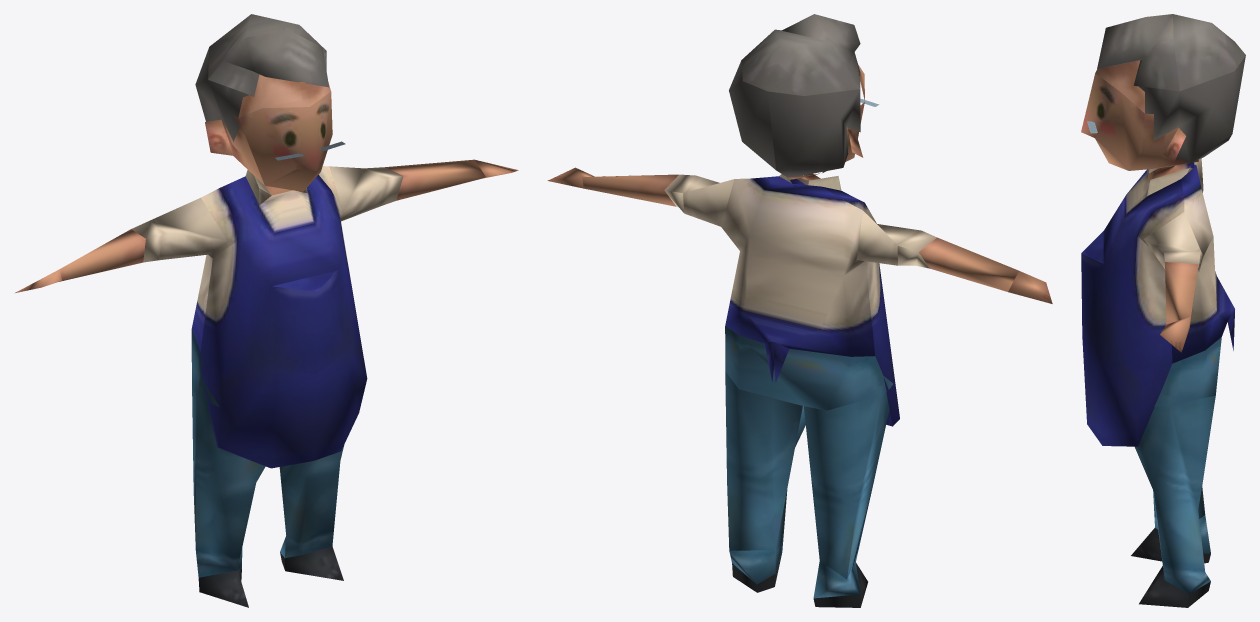
Rendered from Grandpa.glb.
The picture shows the model from 3 angles, left to right: view 1: azimuth 30°, elevation 25°; view 2: azimuth 150°, elevation 25°; view 3: azimuth 270°, elevation 25°; orthographic projection.
Parts seen in each view (by area): view 1: Obj3d66-19927120-2-197; view 2: Obj3d66-19927120-2-197; view 3: Obj3d66-19927120-2-197.
Boxes of the visible parts, x1,y1,x2,y2 form: Obj3d66-19927120-2-197: [15, 14, 518, 607]; Obj3d66-19927120-2-197: [547, 14, 1052, 607]; Obj3d66-19927120-2-197: [1081, 14, 1245, 607].
Bounding box in the file's own units: 0.9406 × 0.9995 × 0.2661.
1 material, 1 textured.
